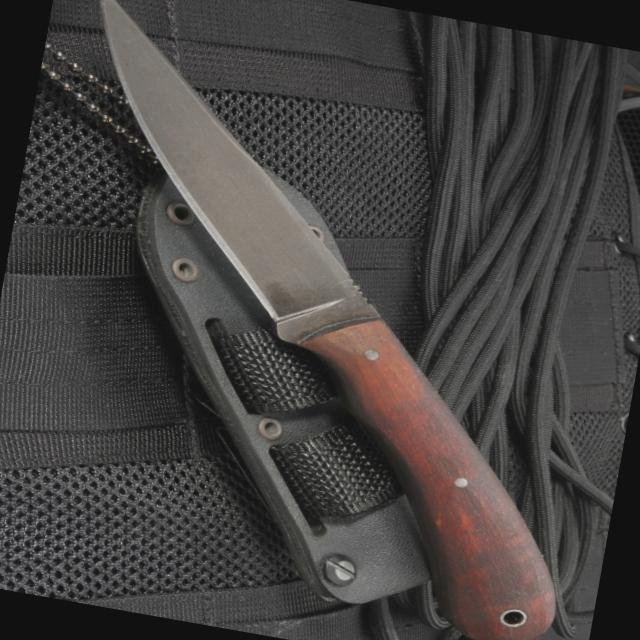knife: (31, 0, 438, 364)
